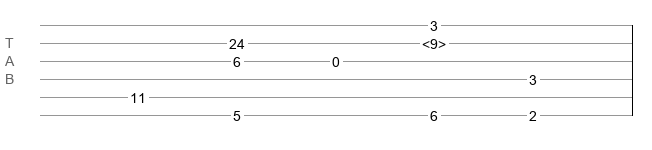0: (332, 54, 340, 64)
11: (130, 90, 146, 100)
2: (529, 108, 537, 118)
24: (229, 36, 245, 46)
3: (430, 18, 438, 28), (529, 72, 537, 82)
5: (233, 108, 241, 118)
6: (233, 54, 241, 64), (430, 108, 438, 118)
harmonic: (422, 36, 446, 46)
